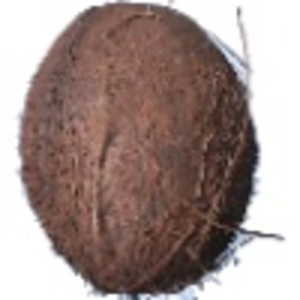coco: (19, 1, 283, 300)
